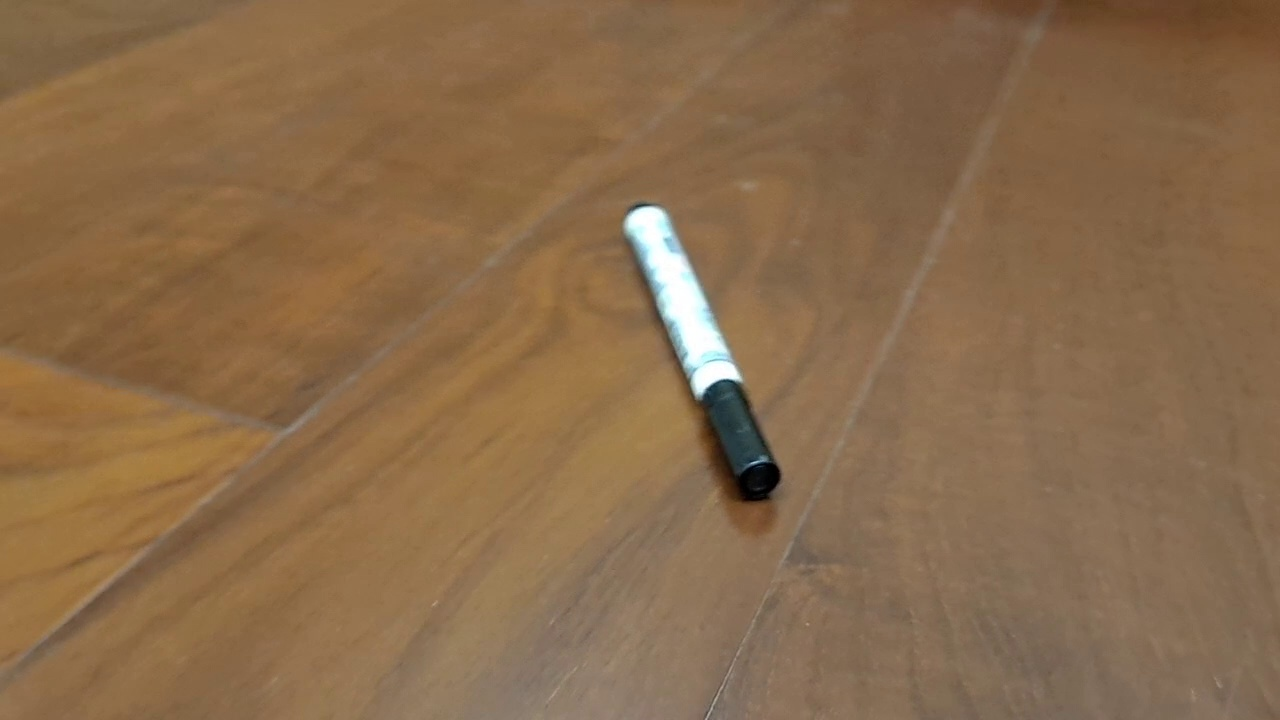pen: (622, 202, 782, 501)
